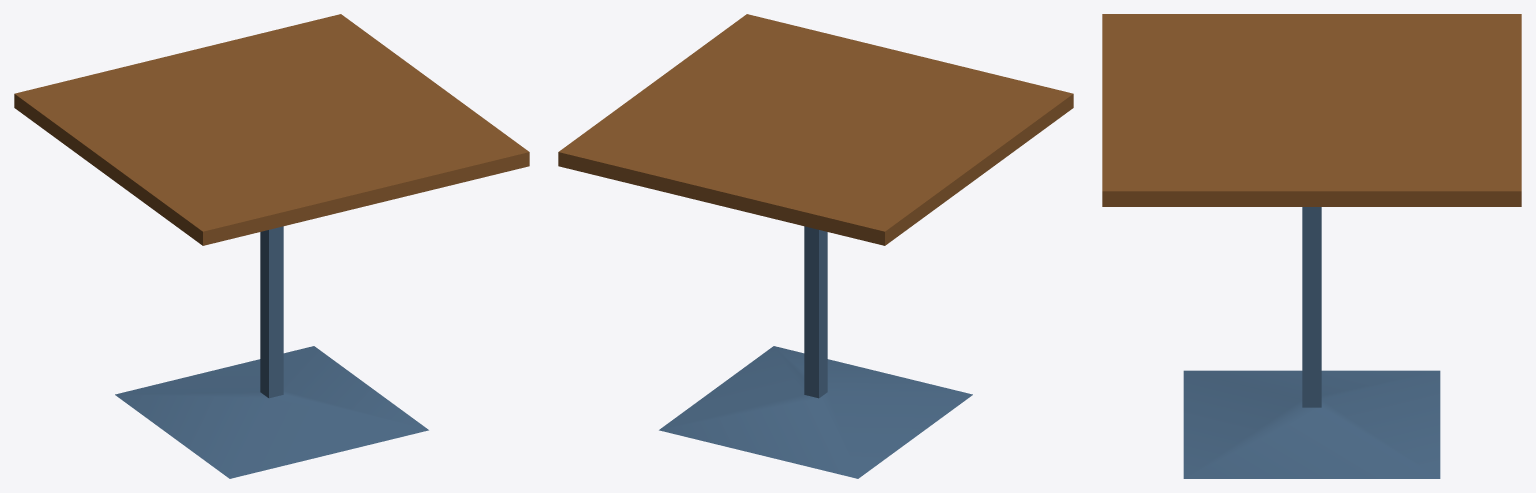
The model's file is cafe_table.dae.
3 renders of one model, left to right at view 1: azimuth 30°, elevation 25°; view 2: azimuth 150°, elevation 25°; view 3: azimuth 270°, elevation 25°, orthographic. The views are drawn at different scales.
Parts seen in each view (by area): view 1: Top_Square (×2), SketchUp; view 2: Top_Square (×2), SketchUp; view 3: Top_Square (×2), SketchUp.
Boxes of the visible parts, left/top/right/bottom form: Top_Square (×2): left=14, top=14, right=529, bottom=245; SketchUp: left=115, top=226, right=428, bottom=478; Top_Square (×2): left=558, top=14, right=1073, bottom=245; SketchUp: left=659, top=226, right=972, bottom=478; Top_Square (×2): left=1102, top=14, right=1521, bottom=206; SketchUp: left=1183, top=207, right=1440, bottom=478.
Size of the model in its own units: 36 by 36 by 30.5.
